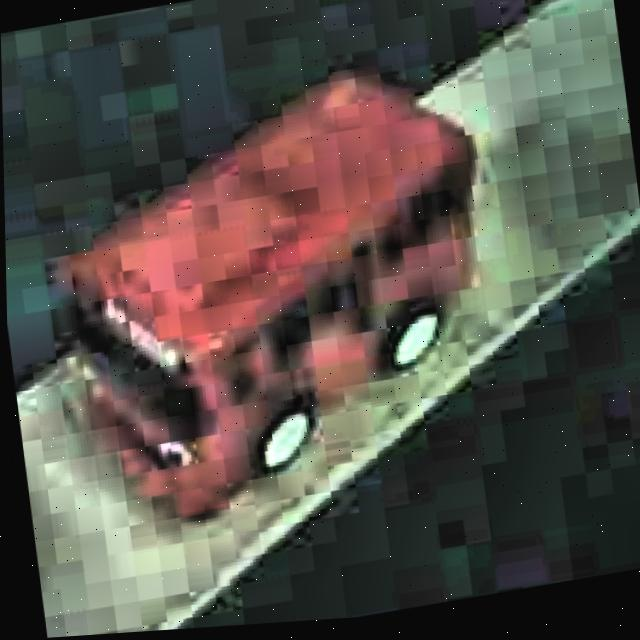bus: (38, 41, 518, 542)
